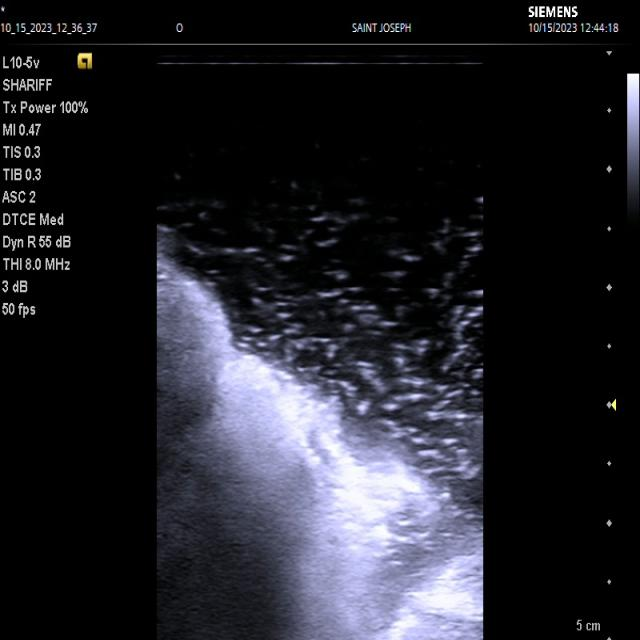tissue: (157, 230, 482, 640)
